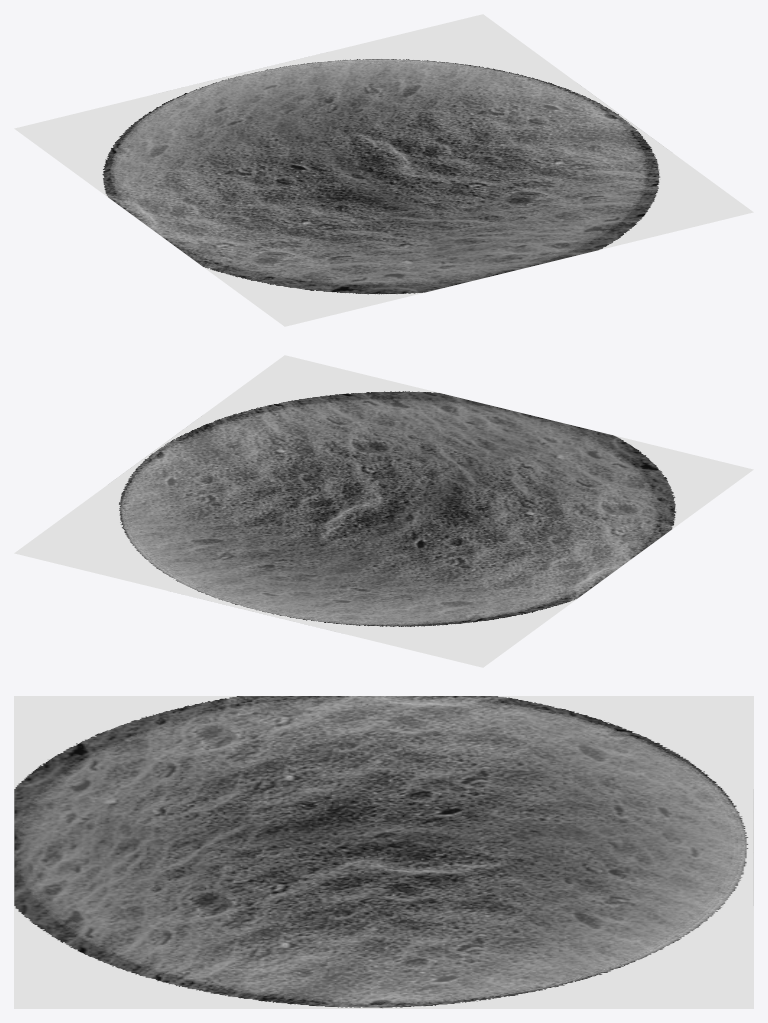
Rendered from vis_lowQ3.obj.
The picture shows the model from 3 angles, top to bottom: view 1: azimuth 30°, elevation 25°; view 2: azimuth 150°, elevation 25°; view 3: azimuth 270°, elevation 25°; orthographic projection. The views are drawn at different scales.
Visible parts, largest first — view 1: Grid_Grid.001; view 2: Grid_Grid.001; view 3: Grid_Grid.001.
Part boxes in pixels (x1,y1,x2,y2): Grid_Grid.001: (14, 14, 753, 326); Grid_Grid.001: (14, 355, 753, 667); Grid_Grid.001: (14, 696, 753, 1008).
Size of the model in its own units: 2 by 0 by 2.
Materials: 1 (1 with a texture image).
